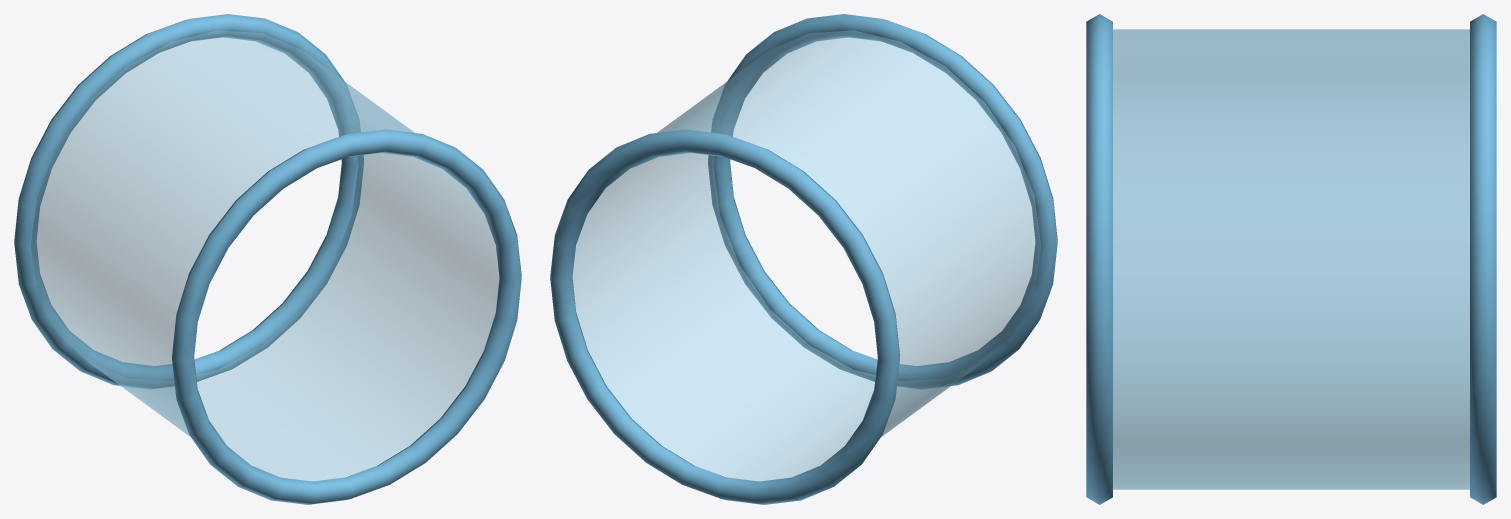
Rendered from tube_straight_short.glb.
3 renders of one model, left to right at view 1: azimuth 30°, elevation 25°; view 2: azimuth 150°, elevation 25°; view 3: azimuth 270°, elevation 25°, orthographic. The views are drawn at different scales.
Parts seen in each view (by area): view 1: tube_body, tube_rims; view 2: tube_body, tube_rims; view 3: tube_body, tube_rims.
Part boxes in pixels (box(x1,y1,x2,y2)): tube_body: box(31, 30, 499, 481); tube_rims: box(14, 14, 521, 504); tube_body: box(572, 30, 1040, 481); tube_rims: box(550, 14, 1057, 504); tube_body: box(1113, 29, 1469, 489); tube_rims: box(1086, 14, 1496, 504).
Bounding box in the file's own units: 0.64 × 0.64 × 0.5346.
